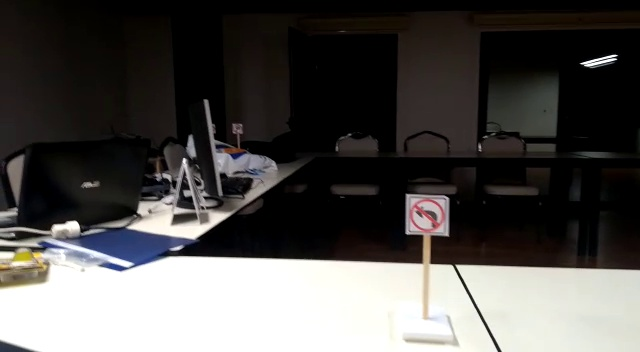sola_donulmez: (405, 196, 454, 237)
